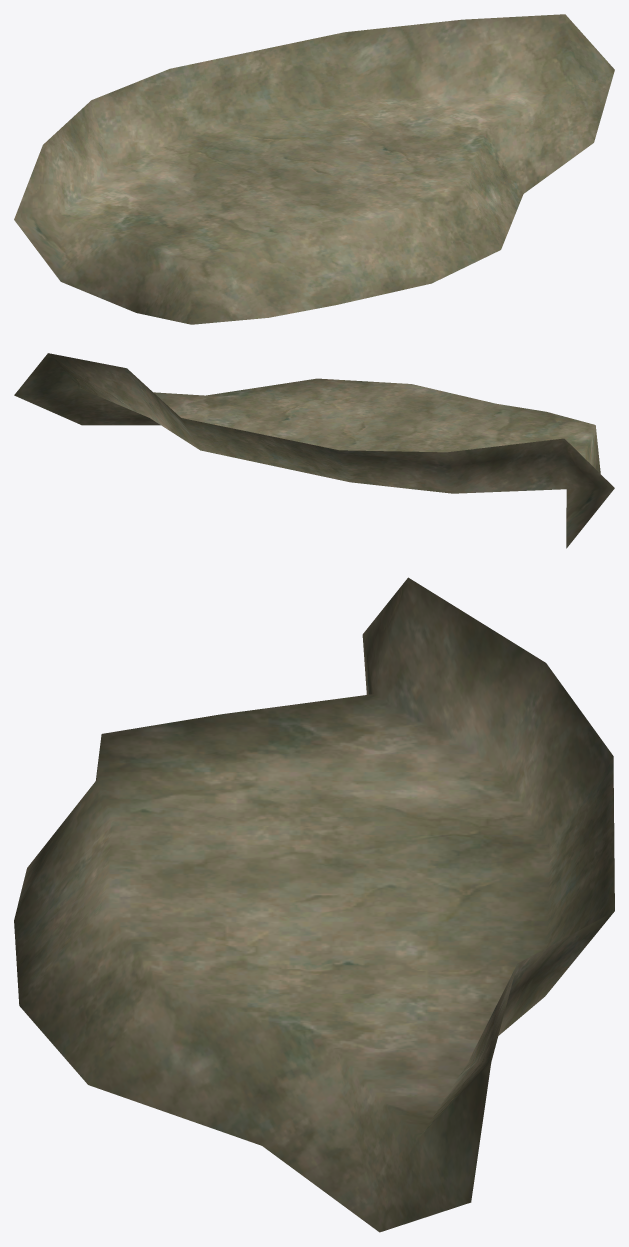
File: EKH_GROTTO_PS_GR_OBJECT02.fbx
3 views of the same model, one above another, from view 1: azimuth 30°, elevation 25°; view 2: azimuth 150°, elevation 25°; view 3: azimuth 270°, elevation 25° (orthographic). The views are drawn at different scales.
Parts seen in each view (by area): view 1: EKH_GROTTO_PS_GR_OBJECT02; view 2: EKH_GROTTO_PS_GR_OBJECT02; view 3: EKH_GROTTO_PS_GR_OBJECT02.
Part boxes in pixels (x1=…): EKH_GROTTO_PS_GR_OBJECT02: x1=14, y1=14, x2=614, y2=324; EKH_GROTTO_PS_GR_OBJECT02: x1=14, y1=353, x2=614, y2=548; EKH_GROTTO_PS_GR_OBJECT02: x1=14, y1=577, x2=614, y2=1232.
Size of the model in its own units: 36242 by 7193 by 17685.
1 material, 1 textured.
